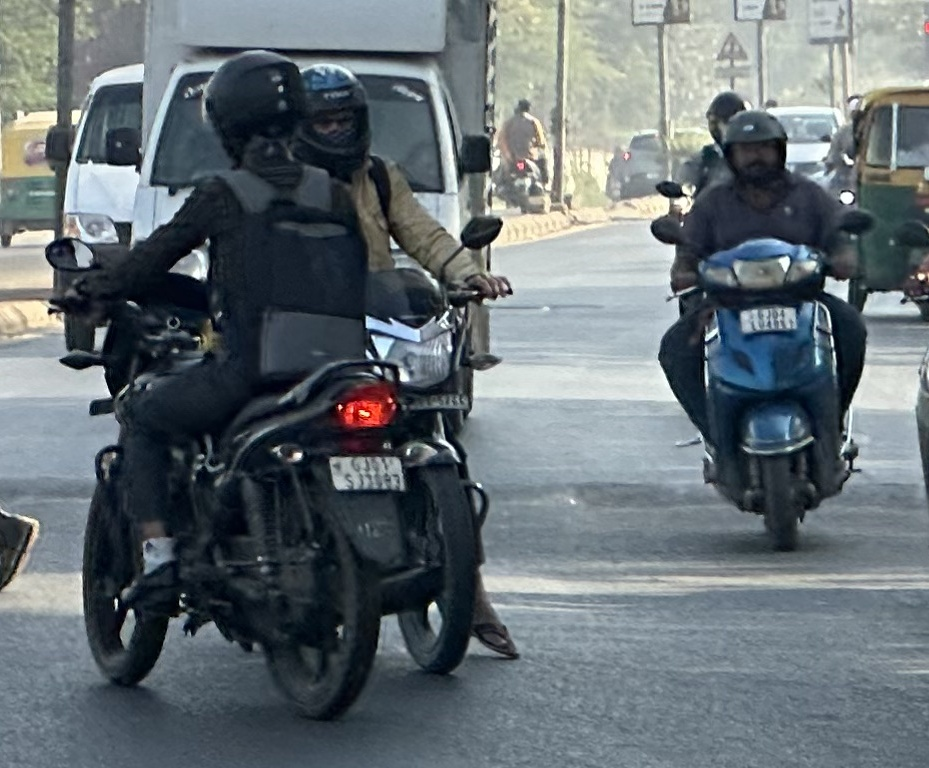BikeWithRider: (77, 47, 413, 709), (287, 61, 525, 679), (647, 106, 878, 555), (498, 94, 552, 207)
Helmet: (197, 48, 304, 160), (304, 63, 374, 176), (721, 108, 790, 186)
